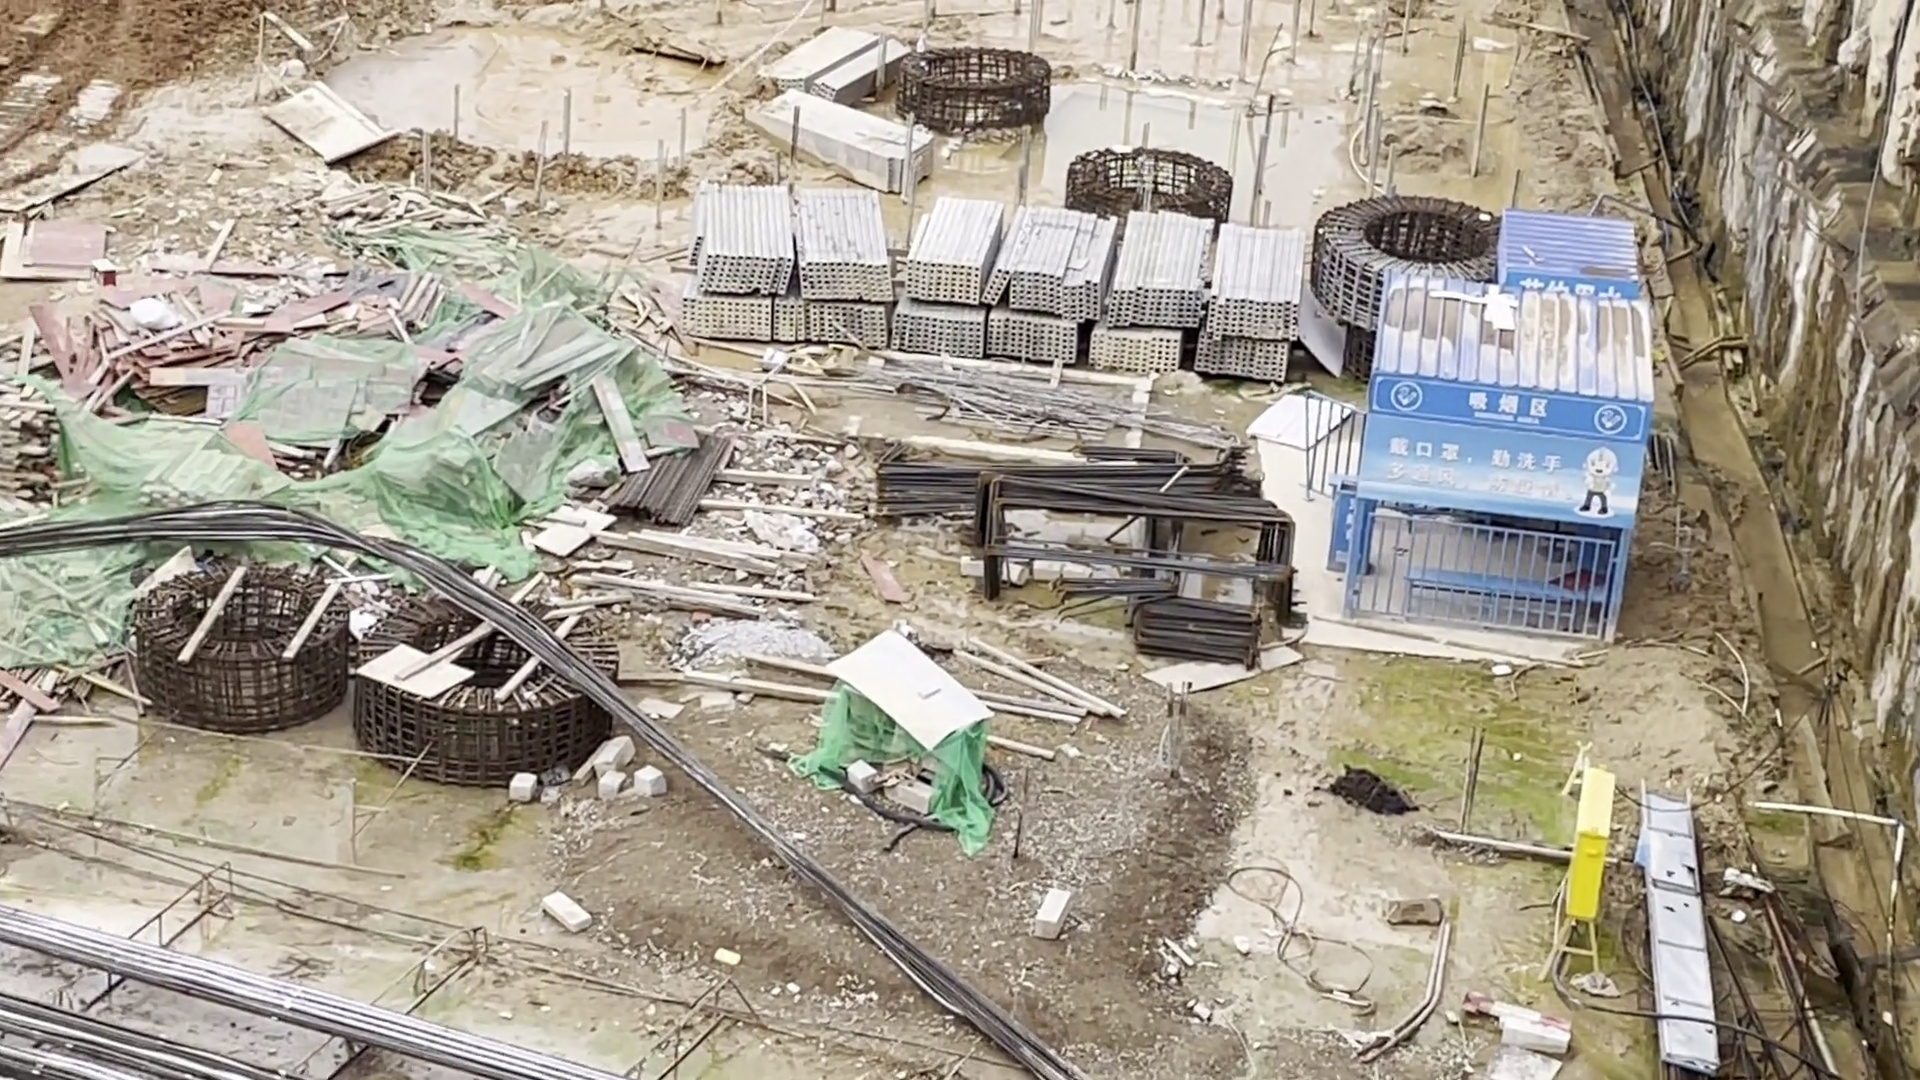board: (36, 265, 463, 433)
ebox: (1553, 764, 1622, 985)
rebar: (29, 934, 392, 1080)
scaffold: (680, 187, 1305, 363), (754, 26, 949, 185)
slogan: (1371, 380, 1638, 514)
